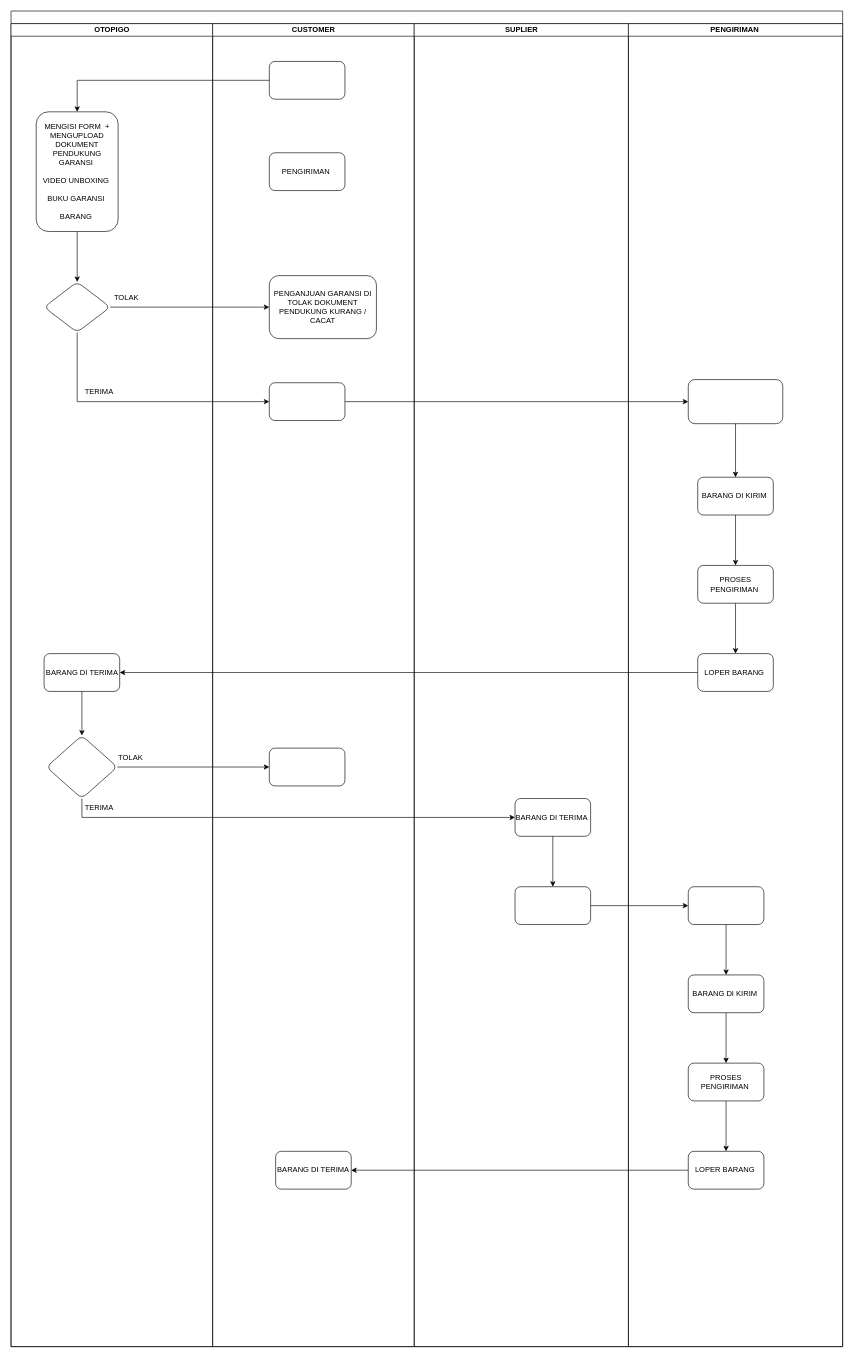
Some shapes in this 854 by 1358 pixel diagram are drawn without their labels. The centre of each missing label's shape, as x and y in pixels:
"BARANG DI KEMBALIKAN DI TOLAK" goes at (307,766).
"MEMPUNYAI KELUHAN GARANSI BARANG" goes at (307,80).
"MENYIAPKAN BARANG GARANSI BARU" goes at (552,905).
"PENGAJUAN" goes at (76,306).
"PENGAJUAN GARANSI DITERIMA" goes at (307,401).
"PENGECEKAN" goes at (81,767).
"PENGEMASAN BARANG" goes at (726,905).
"PENGEMASAN BARANG YANG AKAN DI TUKAR + DOKUMENT PENDUKUNG" goes at (735,401).
